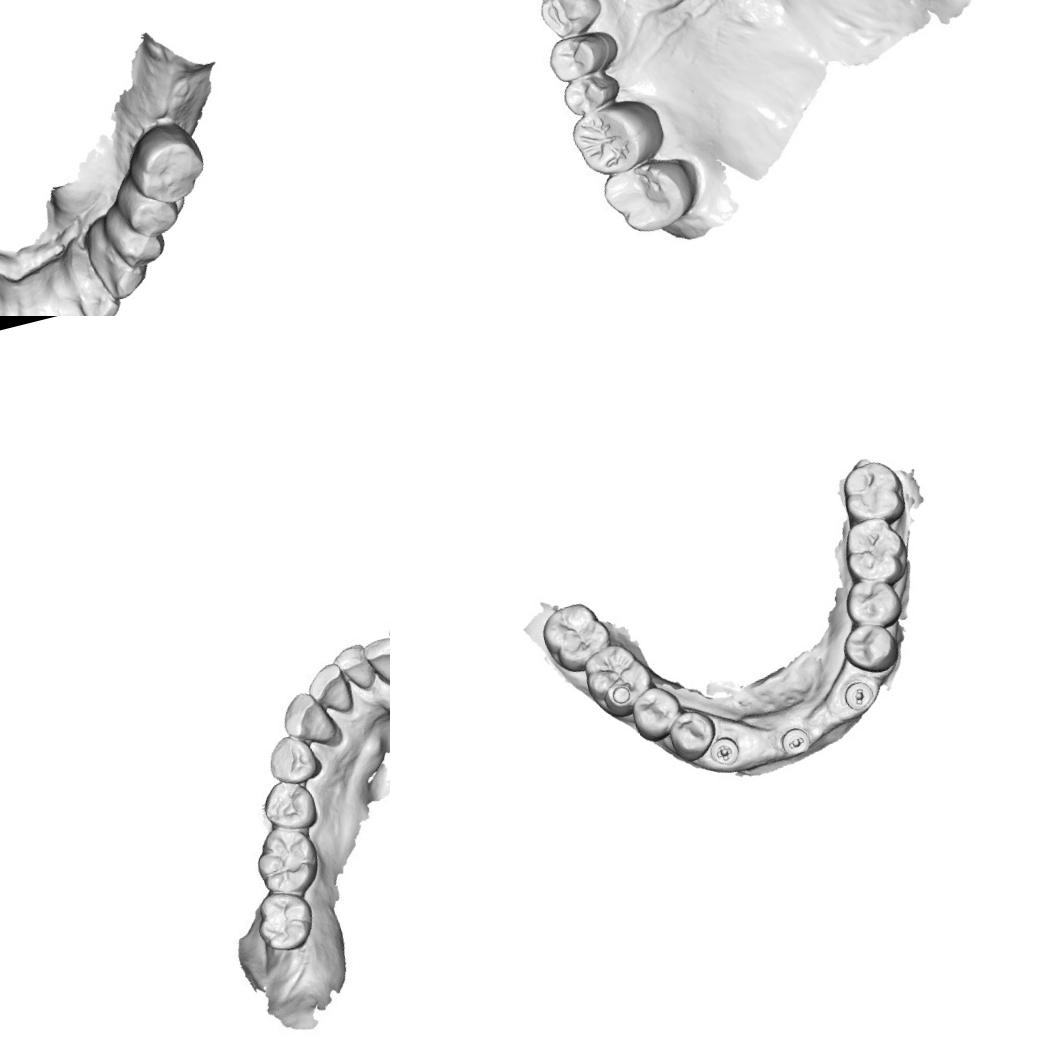canine: (272, 683, 342, 756), (92, 240, 148, 306), (532, 0, 609, 45)
implant_minus: (840, 676, 877, 714), (777, 723, 813, 758)
implant_plus: (705, 732, 743, 770)
incisor: (306, 659, 354, 718), (334, 642, 376, 694), (76, 274, 124, 316), (362, 635, 390, 689), (51, 295, 98, 316)
molar: (598, 149, 710, 241), (566, 92, 670, 180), (118, 115, 214, 210), (578, 636, 659, 724), (535, 595, 618, 679), (836, 511, 914, 594), (834, 455, 911, 534), (246, 819, 321, 899), (248, 882, 322, 959)
premolar: (118, 175, 183, 242), (103, 206, 168, 272), (840, 572, 906, 637), (624, 680, 688, 746), (837, 617, 902, 680), (263, 731, 322, 795), (555, 65, 622, 118), (664, 704, 721, 765), (548, 28, 616, 75), (260, 774, 316, 830)
